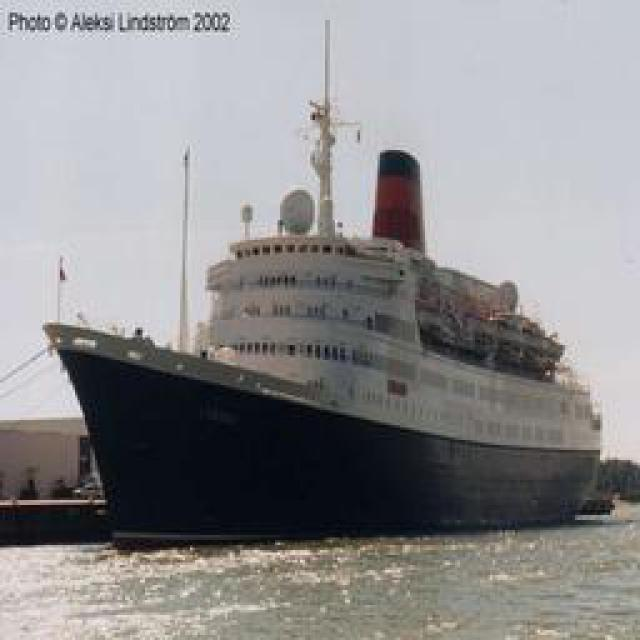Ship: (51, 129, 614, 534)
